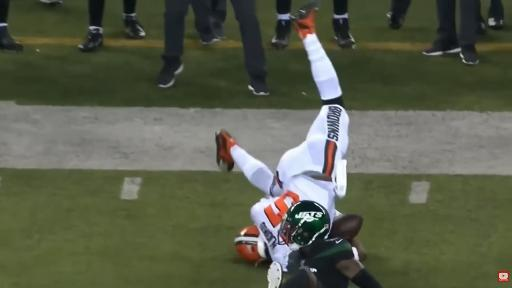Helmet: (279, 201, 330, 246), (235, 225, 266, 263)
Jersey: (251, 175, 339, 267), (302, 239, 354, 287)
Player: (216, 11, 349, 268), (268, 201, 381, 287)
